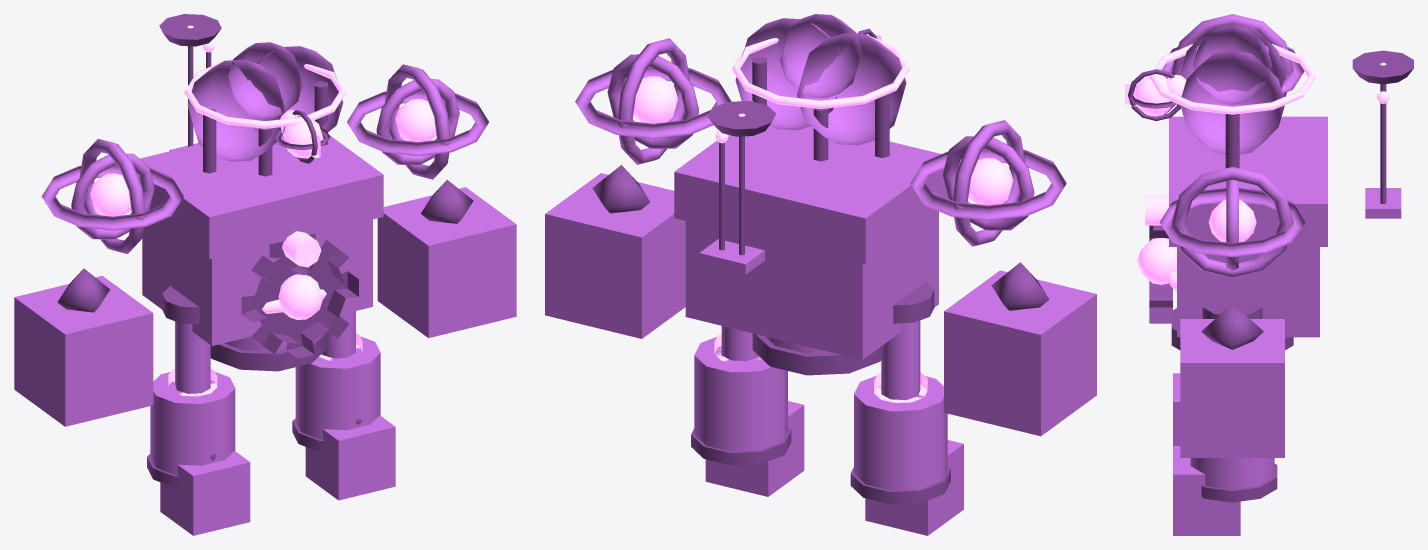
Rendered from golem_139.glb.
3 renders of one model, left to right at view 1: azimuth 30°, elevation 25°; view 2: azimuth 150°, elevation 25°; view 3: azimuth 270°, elevation 25°, orthographic. The views are drawn at different scales.
Visible parts, largest first — view 1: Body, Detail, Glow; view 2: Body, Detail, Glow; view 3: Body, Detail, Glow.
Boxes of the visible parts, left/top/right/bottom form: Body: left=14, top=42, right=516, bottom=535; Detail: left=57, top=14, right=473, bottom=487; Glow: left=90, top=25, right=436, bottom=396; Body: left=545, top=14, right=1096, bottom=535; Detail: left=592, top=28, right=1049, bottom=504; Glow: left=633, top=33, right=1013, bottom=402; Body: left=1156, top=14, right=1401, bottom=535; Detail: left=1128, top=50, right=1413, bottom=502; Glow: left=1125, top=44, right=1389, bottom=291.
Size of the model in its own units: 1.22 by 1.15 by 0.6577.
